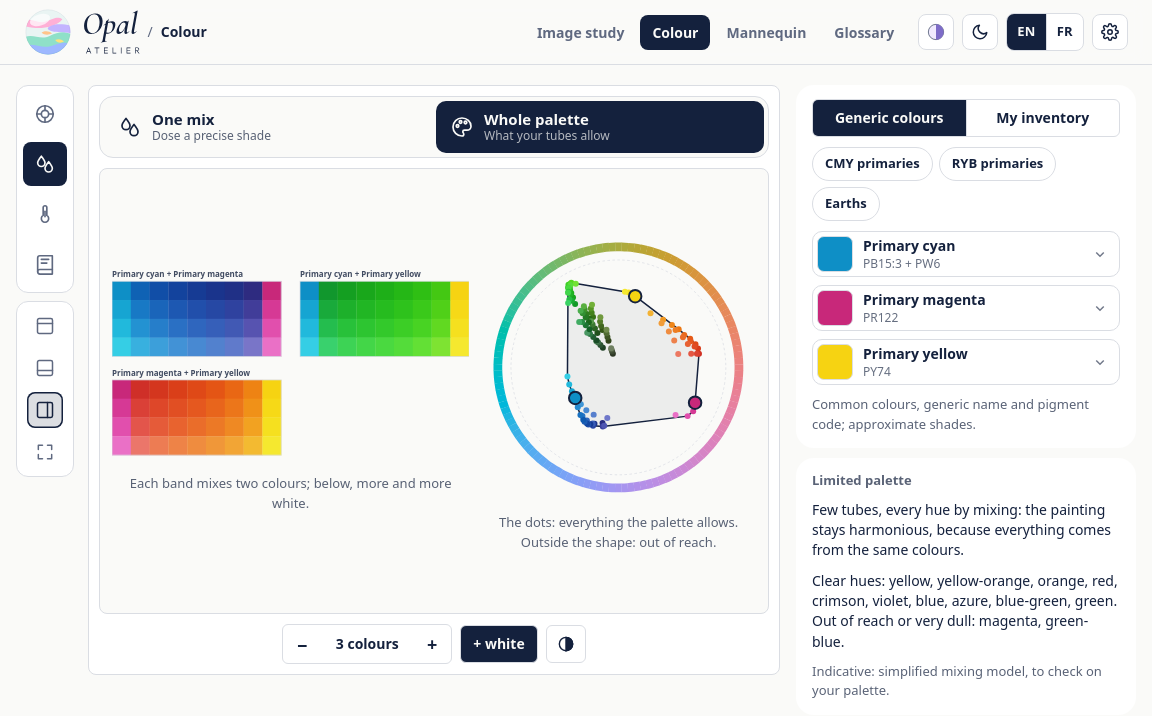
Colour tool › mixing simulator › shows what a limited palette reaches, from its own address
The width and height of the screenshot is (1152, 716).
expect the picture named "Mixing chart of Primary cyan, Primary magenta, Primary yellow and white" is shown: met, box [112,269,469,466]
expect the text "Clear hues:" is shown: met, box [812,571,1118,610]
Step 1. Click the button named "One colour more" → (432, 644), box [413,625,451,663]
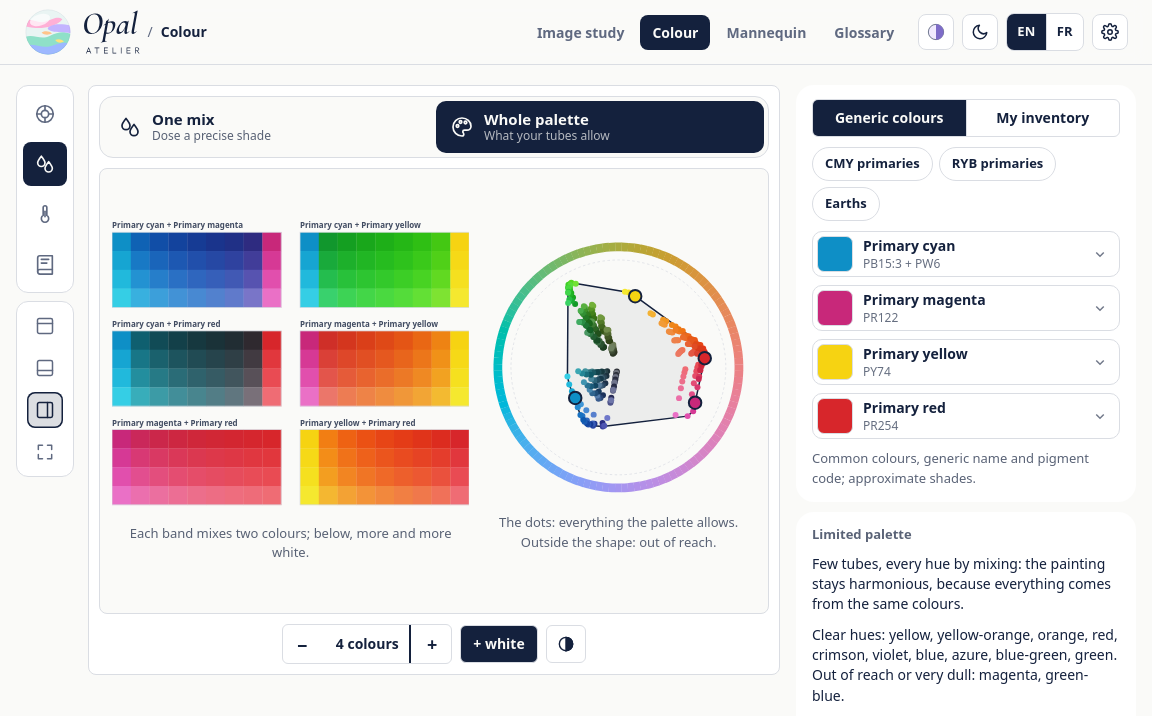
expect the text "4 colours" is shown: met, box [336,634,399,653]
